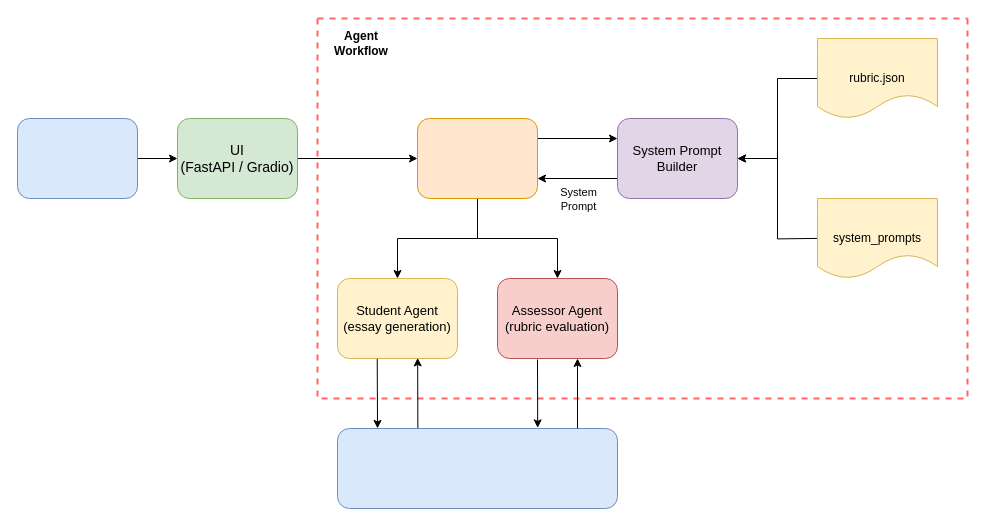
This 986x526 diagram has some shape labels left out. The shapes that lost their labels are listed below. From the top down, each one's centre as x and y in pixels, then its label:
At point 77,158: "User".
At point 477,158: "Orchestrator".
At point 477,468: "LLM".
